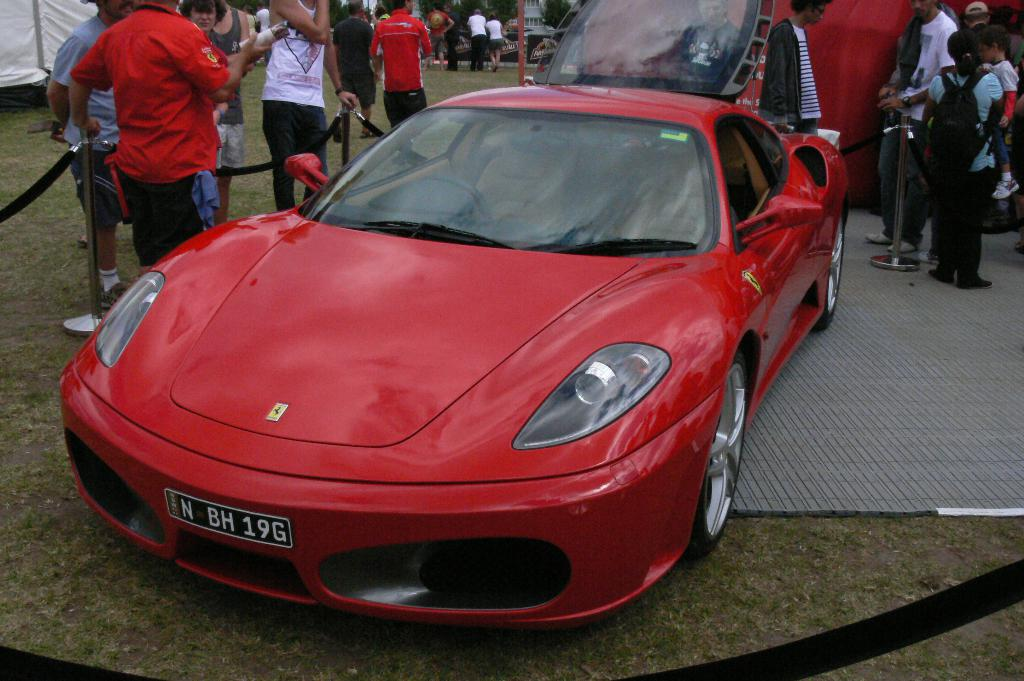Person: (46, 0, 1023, 289)
